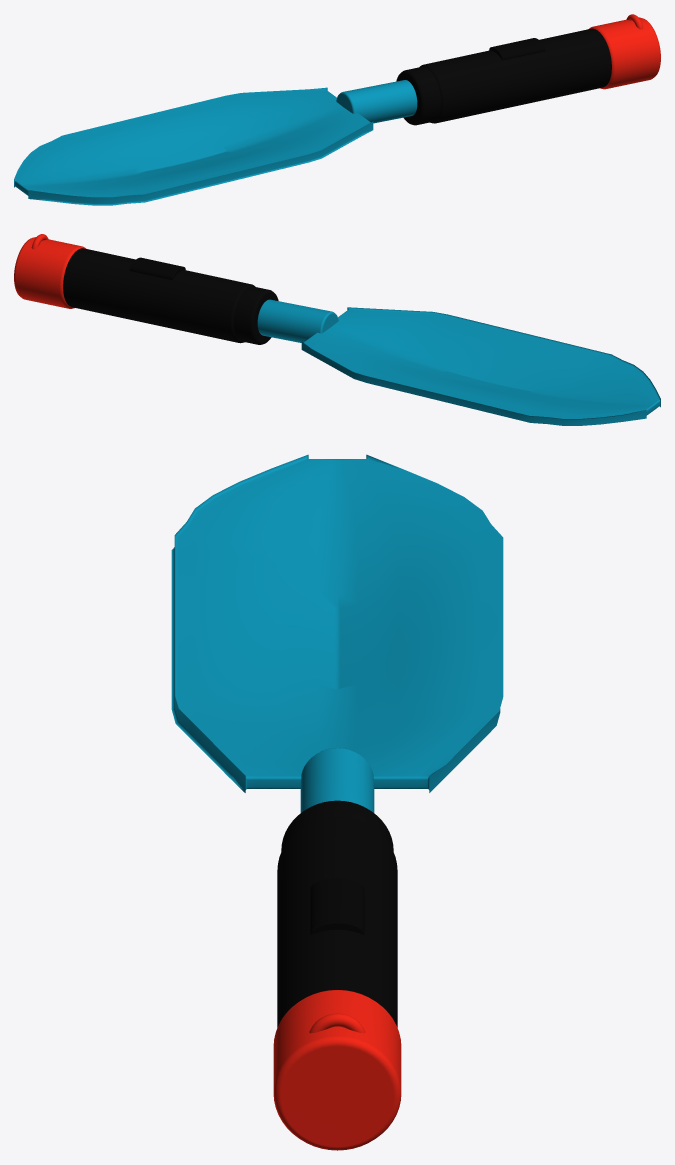
Rendered from Garden_Trowel.obj.
3 views of the same model, one above another, from view 1: azimuth 30°, elevation 25°; view 2: azimuth 150°, elevation 25°; view 3: azimuth 270°, elevation 25° (orthographic). The views are drawn at different scales.
Visible parts, largest first — view 1: SM_Garden_Trowel_Blue_Blade, SM_Garden_Trowel_Black_Handle, SM_Garden_Trowel_Red_Handle_End, SM_Garden_Trowel_Blue_Neck, SM_Garden_Trowel_Black_Vorderring, SM_Garden_Trowel_Handlemulde; view 2: SM_Garden_Trowel_Blue_Blade, SM_Garden_Trowel_Black_Handle, SM_Garden_Trowel_Red_Handle_End, SM_Garden_Trowel_Blue_Neck, SM_Garden_Trowel_Black_Vorderring, SM_Garden_Trowel_Handlemulde; view 3: SM_Garden_Trowel_Blue_Blade, SM_Garden_Trowel_Black_Handle, SM_Garden_Trowel_Red_Handle_End, SM_Garden_Trowel_Blue_Neck, SM_Garden_Trowel_Handlemulde, SM_Garden_Trowel_Black_Vorderring.
Boxes of the visible parts, x1,y1,x2,y2 form: SM_Garden_Trowel_Blue_Blade: [14, 87, 373, 205]; SM_Garden_Trowel_Black_Handle: [419, 28, 611, 123]; SM_Garden_Trowel_Red_Handle_End: [588, 17, 660, 89]; SM_Garden_Trowel_Blue_Neck: [336, 80, 417, 123]; SM_Garden_Trowel_Black_Vorderring: [396, 66, 441, 125]; SM_Garden_Trowel_Handlemulde: [489, 38, 545, 60]; SM_Garden_Trowel_Blue_Blade: [301, 307, 660, 425]; SM_Garden_Trowel_Black_Handle: [63, 248, 255, 343]; SM_Garden_Trowel_Red_Handle_End: [14, 237, 86, 308]; SM_Garden_Trowel_Blue_Neck: [257, 299, 338, 342]; SM_Garden_Trowel_Black_Vorderring: [233, 286, 278, 344]; SM_Garden_Trowel_Handlemulde: [129, 257, 185, 279]; SM_Garden_Trowel_Blue_Blade: [171, 454, 503, 792]; SM_Garden_Trowel_Black_Handle: [277, 817, 397, 1027]; SM_Garden_Trowel_Red_Handle_End: [273, 990, 401, 1150]; SM_Garden_Trowel_Blue_Neck: [300, 748, 374, 812]; SM_Garden_Trowel_Handlemulde: [310, 878, 364, 934]; SM_Garden_Trowel_Black_Vorderring: [281, 800, 393, 851].
Size of the model in its own units: 3.73 by 0.3683 by 0.8547.
